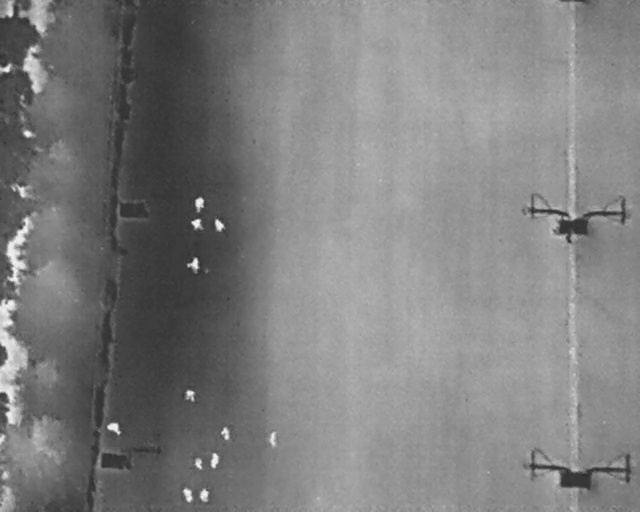Person: (186, 257, 200, 274), (181, 486, 195, 503), (267, 428, 278, 449), (193, 195, 205, 214), (105, 421, 121, 435), (190, 218, 204, 231), (198, 488, 210, 503), (210, 452, 220, 469), (183, 389, 196, 402), (215, 217, 224, 233), (221, 426, 230, 441), (194, 457, 203, 469)
